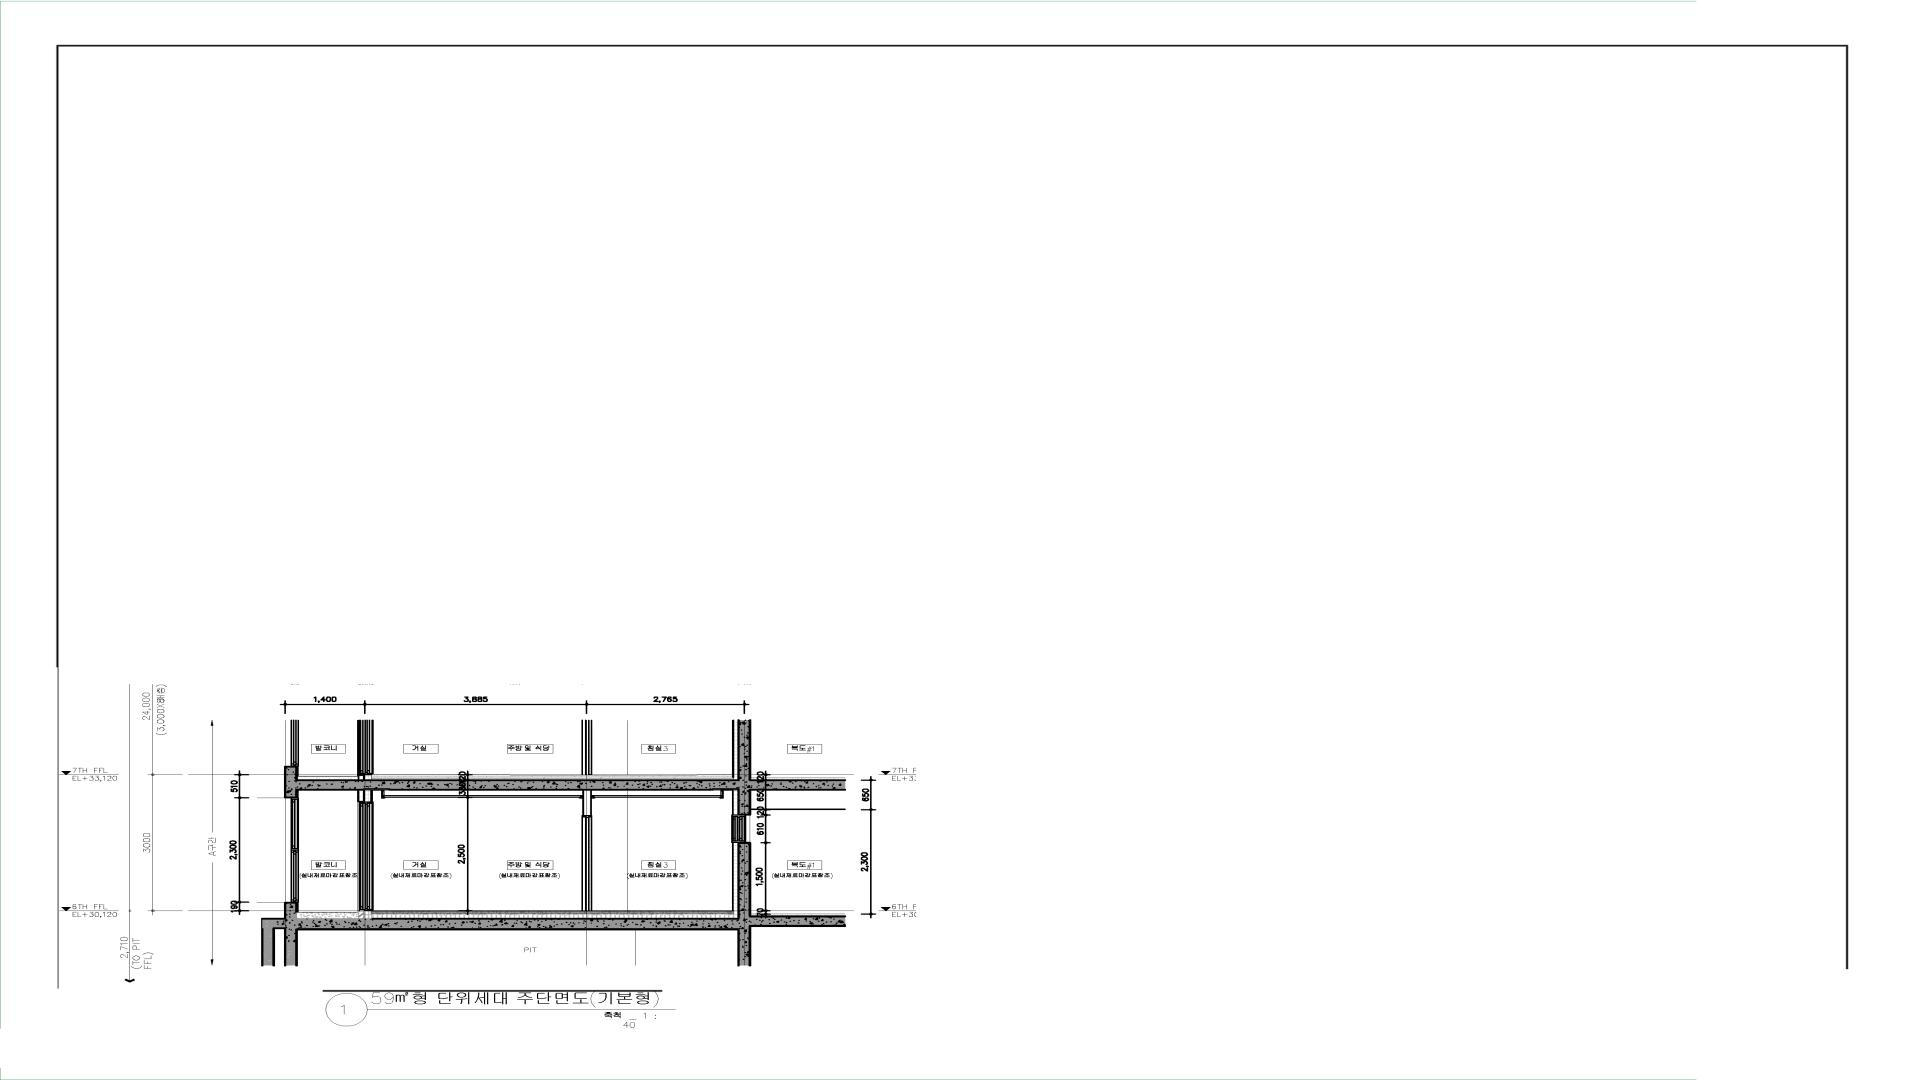door: (582, 815, 592, 911)
wall: (261, 841, 752, 931), (284, 779, 752, 815), (583, 790, 592, 815), (357, 791, 365, 803), (359, 911, 364, 919)
window: (357, 803, 373, 911), (285, 798, 299, 902), (731, 815, 750, 843)
